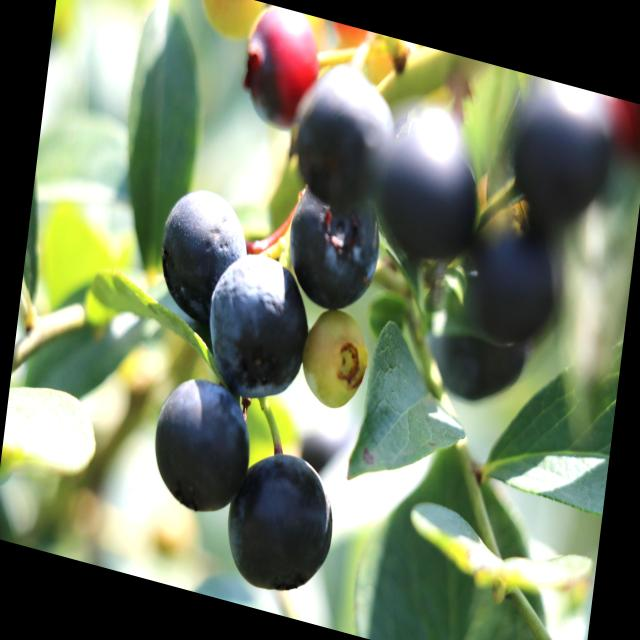blueberry: (370, 92, 496, 277), (196, 234, 319, 421), (279, 51, 404, 231), (218, 435, 345, 608), (496, 70, 620, 246), (142, 360, 262, 531), (454, 205, 574, 365), (150, 172, 260, 337), (278, 176, 388, 324), (421, 295, 534, 424)
blueberry-halfripe: (239, 0, 327, 137)
blueberry-unripe: (296, 298, 376, 417)
